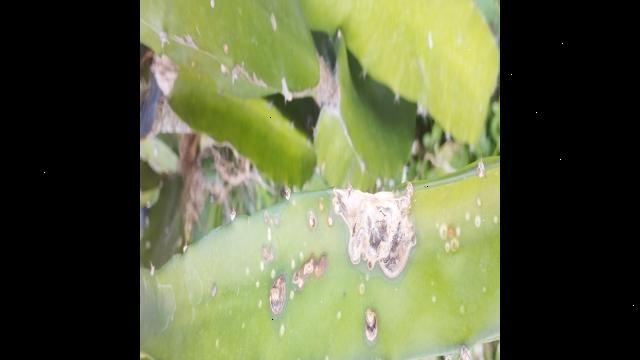stemcanker: (208, 311, 261, 359), (243, 262, 276, 290), (286, 250, 307, 270), (352, 280, 372, 298), (207, 280, 223, 302), (442, 238, 462, 255), (471, 195, 490, 210), (454, 302, 470, 319), (472, 210, 487, 228), (306, 212, 319, 231), (426, 292, 441, 308), (276, 320, 289, 338), (323, 215, 338, 230), (490, 212, 500, 229), (333, 308, 345, 322), (255, 296, 265, 312), (482, 282, 490, 296), (463, 209, 470, 223)
